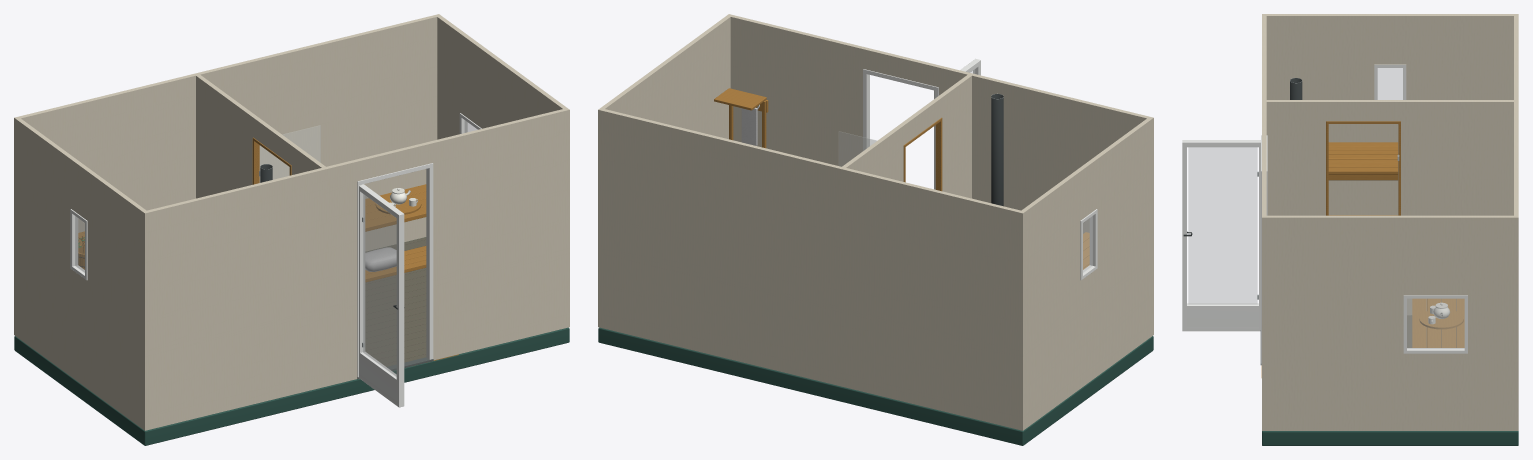
3 views of the same model, side by side, from view 1: azimuth 30°, elevation 25°; view 2: azimuth 150°, elevation 25°; view 3: azimuth 270°, elevation 25° (orthographic).
Parts seen in each view (by area): view 1: Wall front band 2, Wall front band 4, Wall front band 7, Wall front band 6, Wall front band 5, Wall rear band 7, Wall front band 1, Wall front band 8, Wall rear band 8, Wall rear band 6, Foundation, Wall rear band 5 (+30 smaller); view 2: Wall rear band 2, Wall rear band 6, Wall rear band 4, Wall rear band 7, Wall rear band 5, Wall rear band 1, Wall rear band 8, Wall front band 8, Foundation, Wall front band 7, Wall front band 6, Wall rear band 0 (+25 smaller); view 3: Single PVC glass panel, Wall right band 2, Wall left band 7, Wall right band 6, Wall right band 7, Wall right band 1, Wall left band 6, Wall right band 4, Wall right band 5, Wall left band 8, Wall right band 8, Wall v4_p18_top_14_0003 band 8 (+34 smaller).
Boxes of the visible parts, box(x1,y1,x2,y2) form: Wall front band 2: box(142, 253, 569, 389); Wall front band 4: box(142, 218, 569, 351); Wall front band 7: box(142, 129, 569, 262); Wall front band 6: box(142, 159, 569, 292); Wall front band 5: box(142, 189, 569, 321); Wall rear band 7: box(14, 36, 437, 168); Wall front band 1: box(142, 285, 569, 417); Wall front band 8: box(142, 108, 569, 232); Wall rear band 8: box(14, 14, 440, 138); Wall rear band 6: box(14, 66, 437, 198); Foundation: box(14, 327, 569, 445); Wall rear band 5: box(14, 96, 437, 227); Wall rear band 2: box(598, 253, 1025, 389); Wall rear band 6: box(598, 159, 1025, 292); Wall rear band 4: box(598, 218, 1025, 351); Wall rear band 7: box(598, 129, 1025, 262); Wall rear band 5: box(598, 189, 1025, 321); Wall rear band 1: box(598, 285, 1025, 417); Wall rear band 8: box(598, 108, 1025, 232); Wall front band 8: box(727, 14, 1153, 138); Foundation: box(598, 327, 1153, 445); Wall front band 7: box(730, 36, 1153, 168); Wall front band 6: box(730, 66, 1153, 198); Wall rear band 0: box(598, 314, 1025, 430); Single PVC glass panel: box(1188, 147, 1257, 304); Wall right band 2: box(1266, 358, 1513, 390); Wall left band 7: box(1266, 35, 1513, 64); Wall right band 6: box(1266, 266, 1513, 295); Wall right band 7: box(1266, 237, 1513, 265); Wall right band 1: box(1266, 390, 1513, 417); Wall left band 6: box(1266, 64, 1513, 93); Wall right band 4: box(1266, 324, 1513, 353); Wall right band 5: box(1266, 295, 1513, 324); Wall left band 8: box(1266, 14, 1513, 35); Wall right band 8: box(1266, 215, 1513, 236); Wall v4_p18_top_14_0003 band 8: box(1266, 100, 1513, 121).
Bounding box in the file's own units: 4.52 × 2.36 × 3.14.
Materials: 31 (11 with a texture image).
